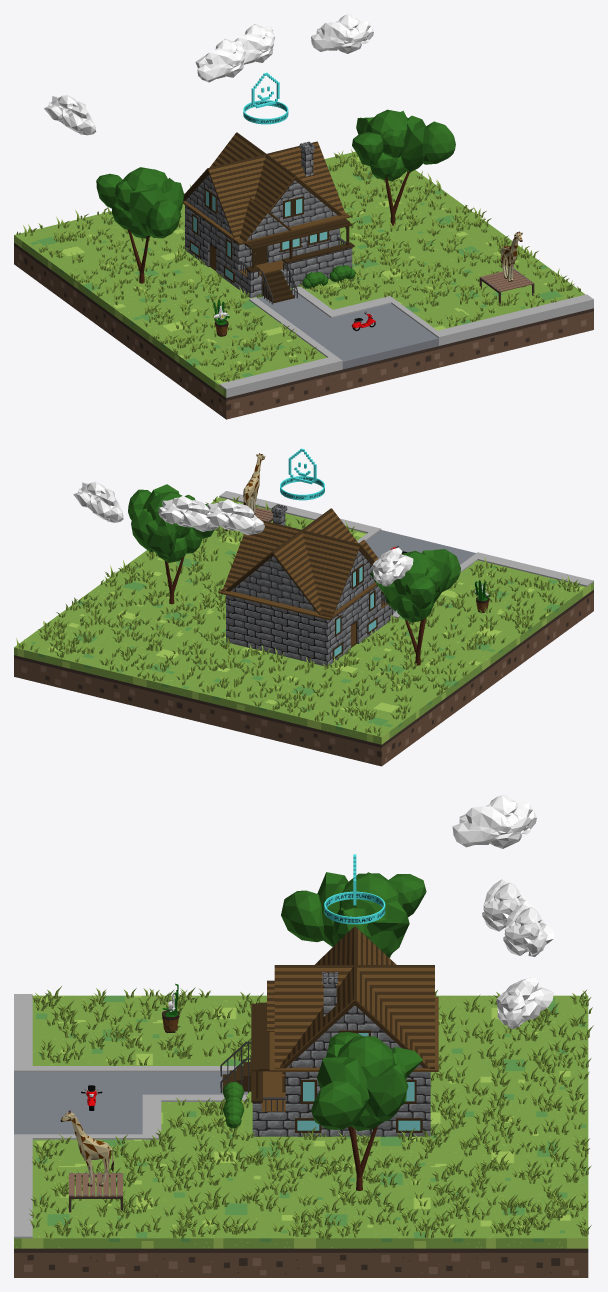
3 views of the same model, one above another, from view 1: azimuth 30°, elevation 25°; view 2: azimuth 150°, elevation 25°; view 3: azimuth 270°, elevation 25° (orthographic). The views are drawn at different scales.
Parts seen in each view (by area): view 1: Cube.006, Cube.586, Circle.012_Grass_0.192, Cube.007, tree, tree.001, TYPE_PREMIUM, Cube.009, ANIMAL_JIRAFA; view 2: Cube.006, Cube.586, Circle.012_Grass_0.192, Cube.007, tree.001, tree, TYPE_PREMIUM, ANIMAL_JIRAFA; view 3: Cube.006, Circle.012_Grass_0.192, Cube.586, tree, Cube.007, tree.001, Cube.009, ANIMAL_JIRAFA, TYPE_PREMIUM.
Part boxes in pixels (box(x1,y1,x2,y2)): Cube.006: box(14, 151, 593, 419); Cube.586: box(183, 132, 354, 304); Circle.012_Grass_0.192: box(16, 149, 580, 381); Cube.007: box(44, 14, 373, 135); tree: box(352, 109, 455, 225); tree.001: box(96, 167, 184, 283); TYPE_PREMIUM: box(243, 72, 288, 124); Cube.009: box(479, 268, 534, 303); ANIMAL_JIRAFA: box(501, 231, 522, 281); Cube.006: box(14, 491, 593, 766); Cube.586: box(218, 504, 393, 666); Circle.012_Grass_0.192: box(16, 496, 580, 736); Cube.007: box(73, 481, 413, 586); tree.001: box(370, 549, 460, 665); tree: box(128, 484, 214, 604); TYPE_PREMIUM: box(280, 448, 324, 500); ANIMAL_JIRAFA: box(243, 453, 265, 514); Cube.006: box(14, 994, 588, 1277); Circle.012_Grass_0.192: box(29, 986, 593, 1239); Cube.586: box(220, 926, 438, 1136); tree: box(311, 1032, 422, 1190); Cube.007: box(452, 795, 553, 1029); tree.001: box(281, 872, 426, 957); Cube.009: box(69, 1172, 122, 1212); ANIMAL_JIRAFA: box(60, 1110, 113, 1186); TYPE_PREMIUM: box(324, 854, 385, 924).
Size of the model in its own units: 4071 by 2301 by 4040.
Materials: 42 (5 with a texture image).
